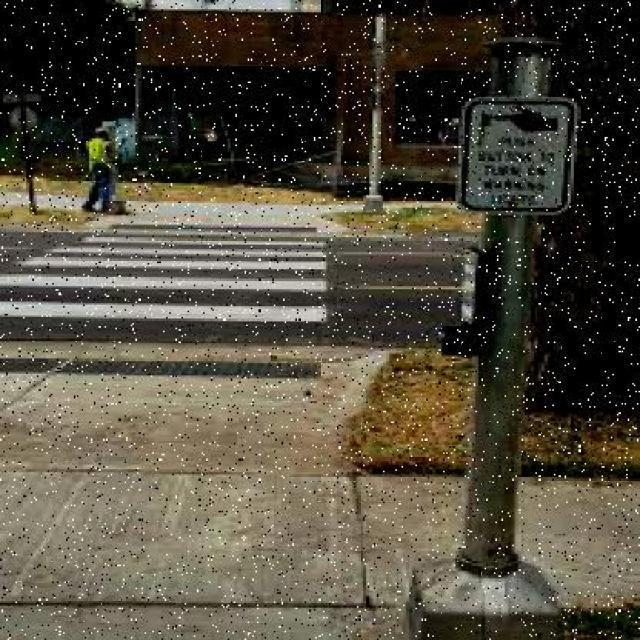crosswalk: (0, 225, 330, 325)
